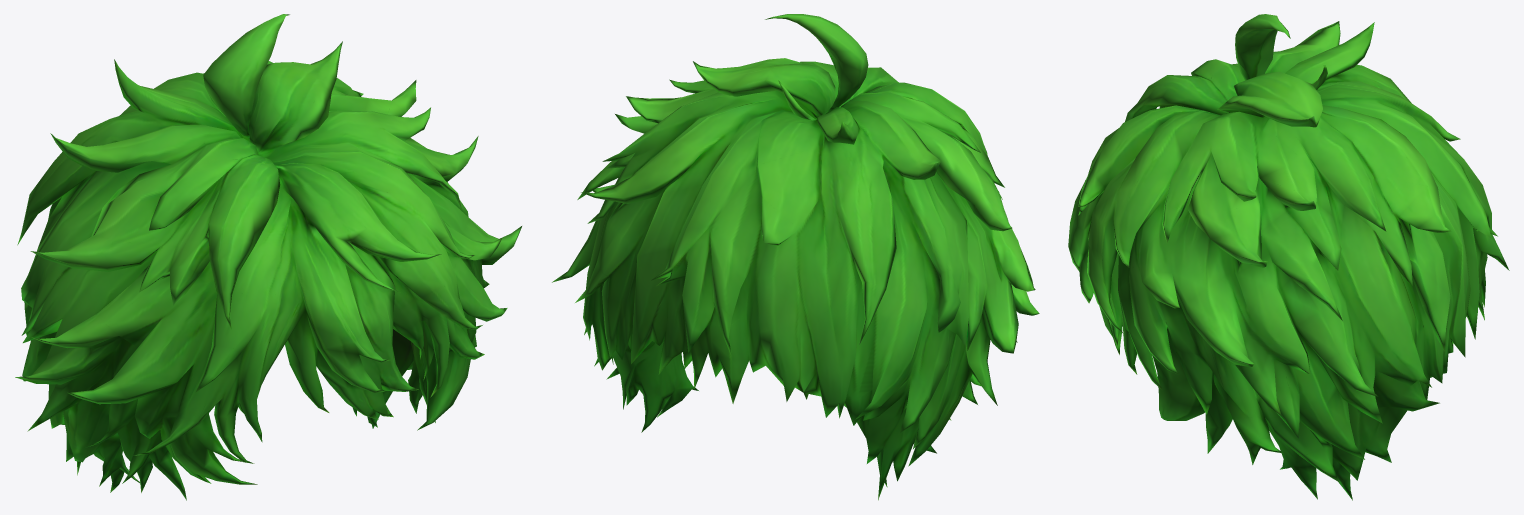
Rendered from coupe cheveux court.glb.
3 views of the same model, side by side, from view 1: azimuth 30°, elevation 25°; view 2: azimuth 150°, elevation 25°; view 3: azimuth 270°, elevation 25° (orthographic). The views are drawn at different scales.
Parts seen in each view (by area): view 1: geometry_0; view 2: geometry_0; view 3: geometry_0.
Part boxes in pixels (bbox=[...]): geometry_0: bbox=[15, 14, 521, 500]; geometry_0: bbox=[552, 14, 1039, 500]; geometry_0: bbox=[1068, 14, 1509, 500].
Bounding box in the file's own units: 0.958 × 0.8633 × 0.8076.
Materials: 1 (1 with a texture image).
